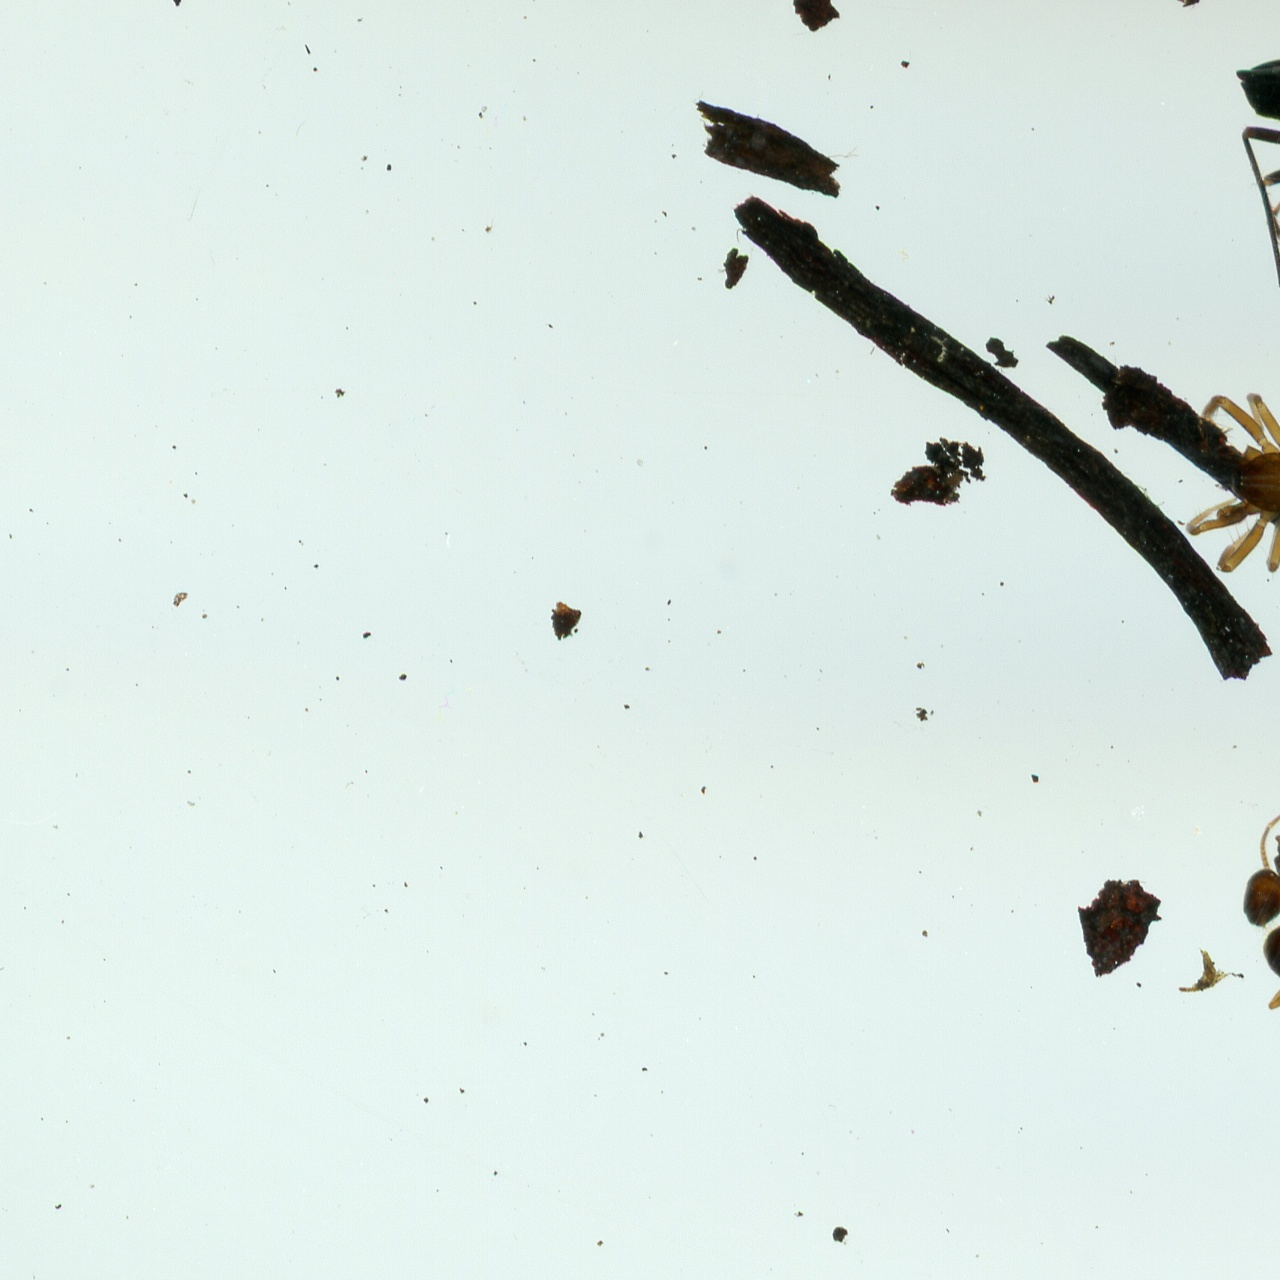arthropod: (1189, 376, 1280, 572), (1235, 3, 1280, 342), (1240, 761, 1280, 929), (1258, 895, 1280, 1037)
